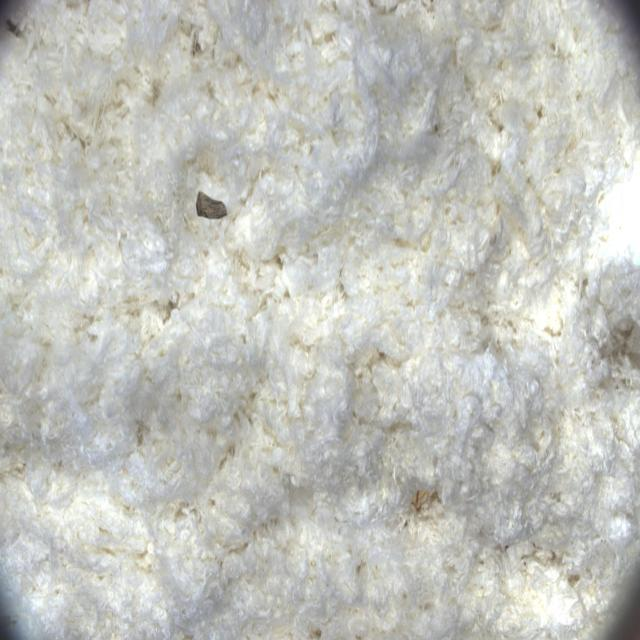dust: (175, 153, 246, 250)
